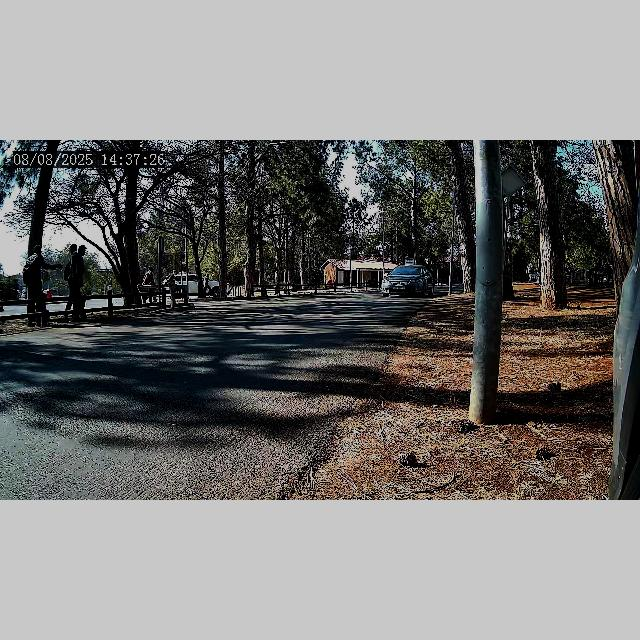car: (161, 274, 233, 298), (384, 265, 434, 297)
